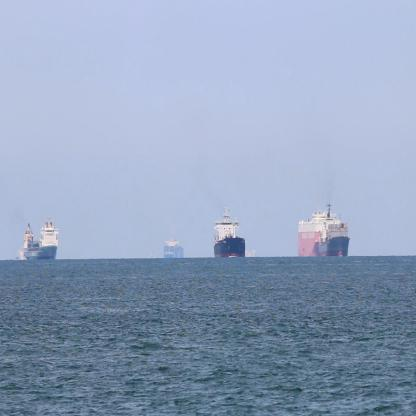Container Ship: (298, 201, 350, 257), (213, 202, 246, 258), (22, 216, 58, 260), (163, 238, 183, 260), (245, 248, 257, 259), (15, 248, 23, 260), (148, 250, 155, 260)
